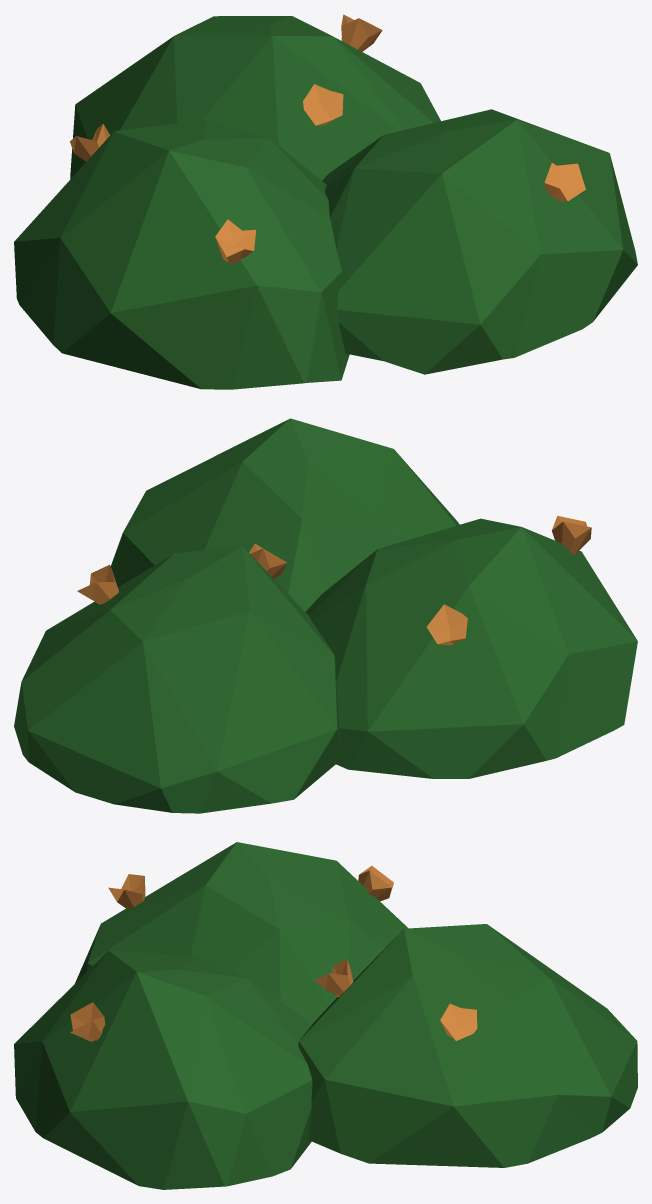
File: Bush2.2.fbx
3 renders of one model, top to bottom at view 1: azimuth 30°, elevation 25°; view 2: azimuth 150°, elevation 25°; view 3: azimuth 270°, elevation 25°, orthographic. The views are drawn at different scales.
Visible parts, largest first — view 1: Bush2.2; view 2: Bush2.2; view 3: Bush2.2.
Part boxes in pixels (x1,y1,x2,y2): Bush2.2: (14, 14, 637, 389); Bush2.2: (14, 418, 637, 813); Bush2.2: (14, 842, 637, 1189).
Bounding box in the file's own units: 214 × 69.62 × 236.
